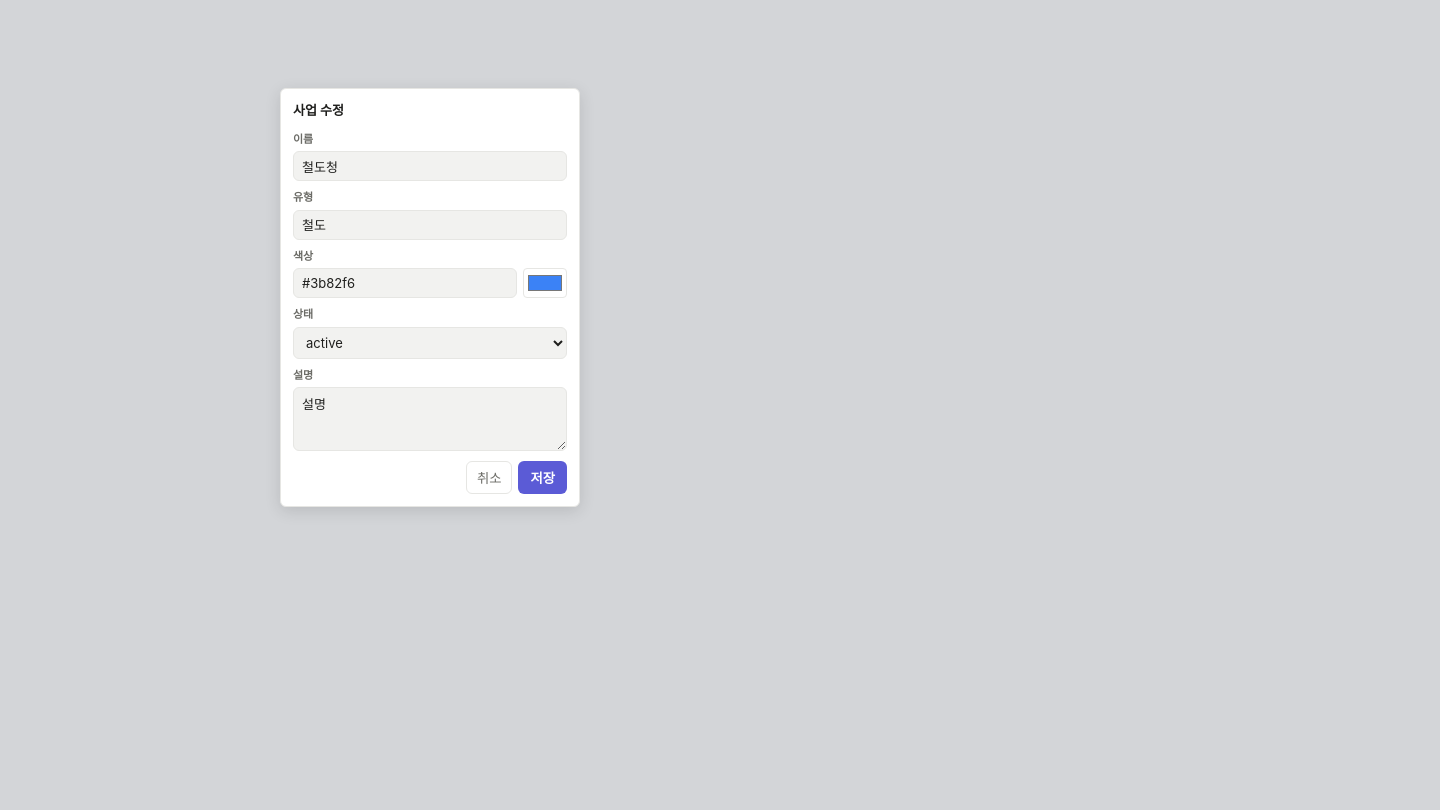
Test case: BusinessEditorPopover › empty name or type disables save
The width and height of the screenshot is (1440, 810).
Clear the field named "사업 유형" at (430, 224), box [293,210,567,240]
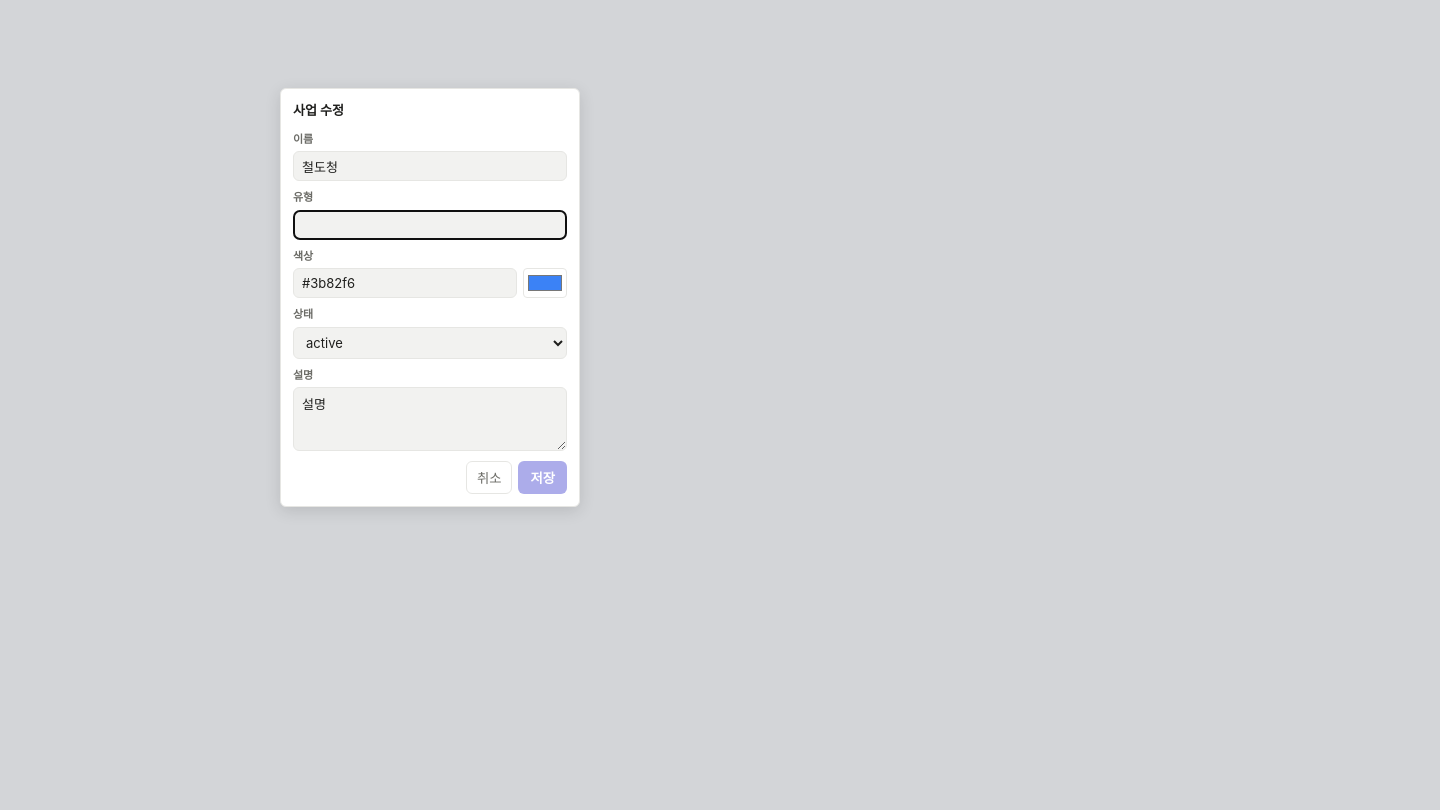
Expected: the button "저장" is disabled, [518,461,567,494]
Type "플랫폼" into the field named "사업 유형" at (430, 224), box [293,210,567,240]
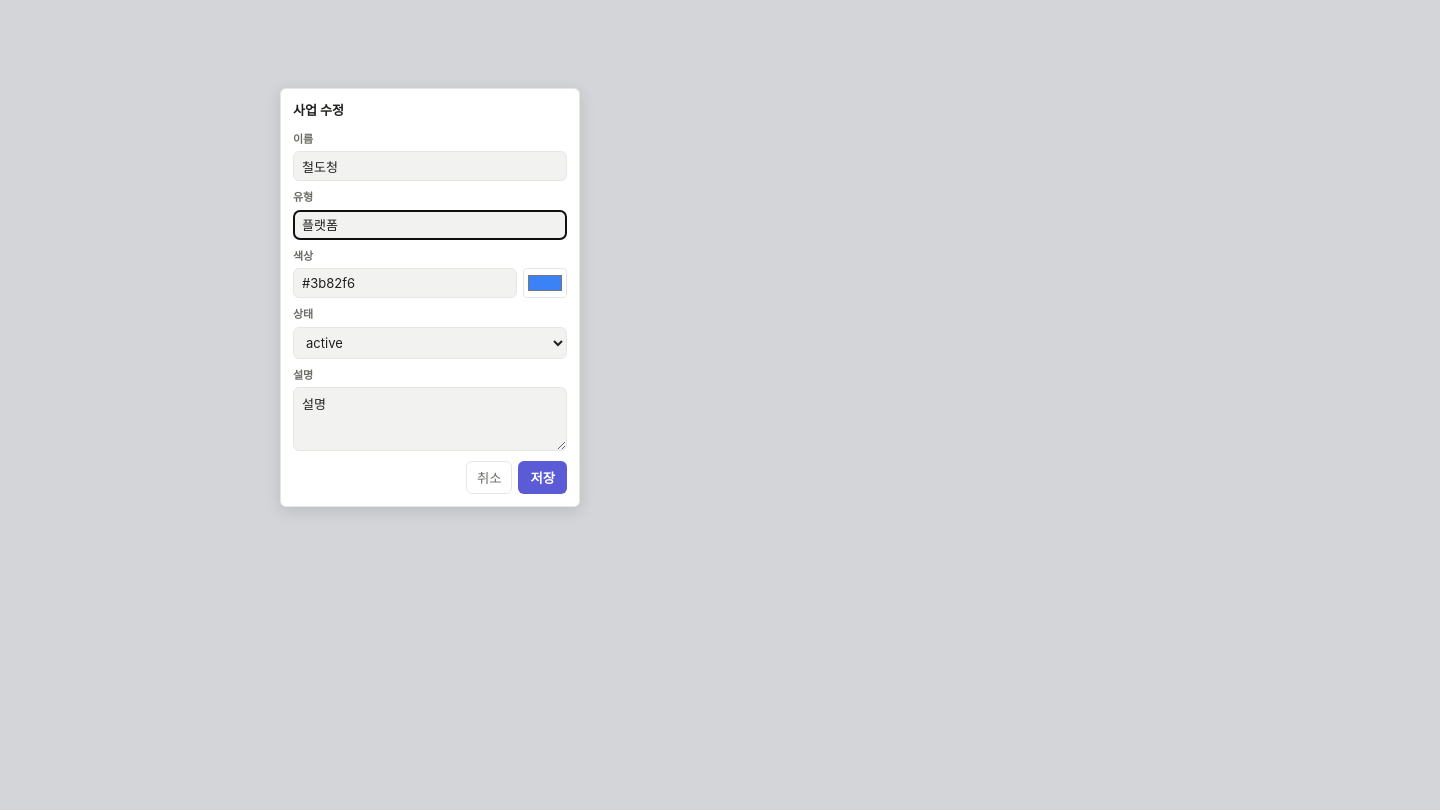
Clear the field named "사업 이름" at (430, 166), box [293,151,567,181]
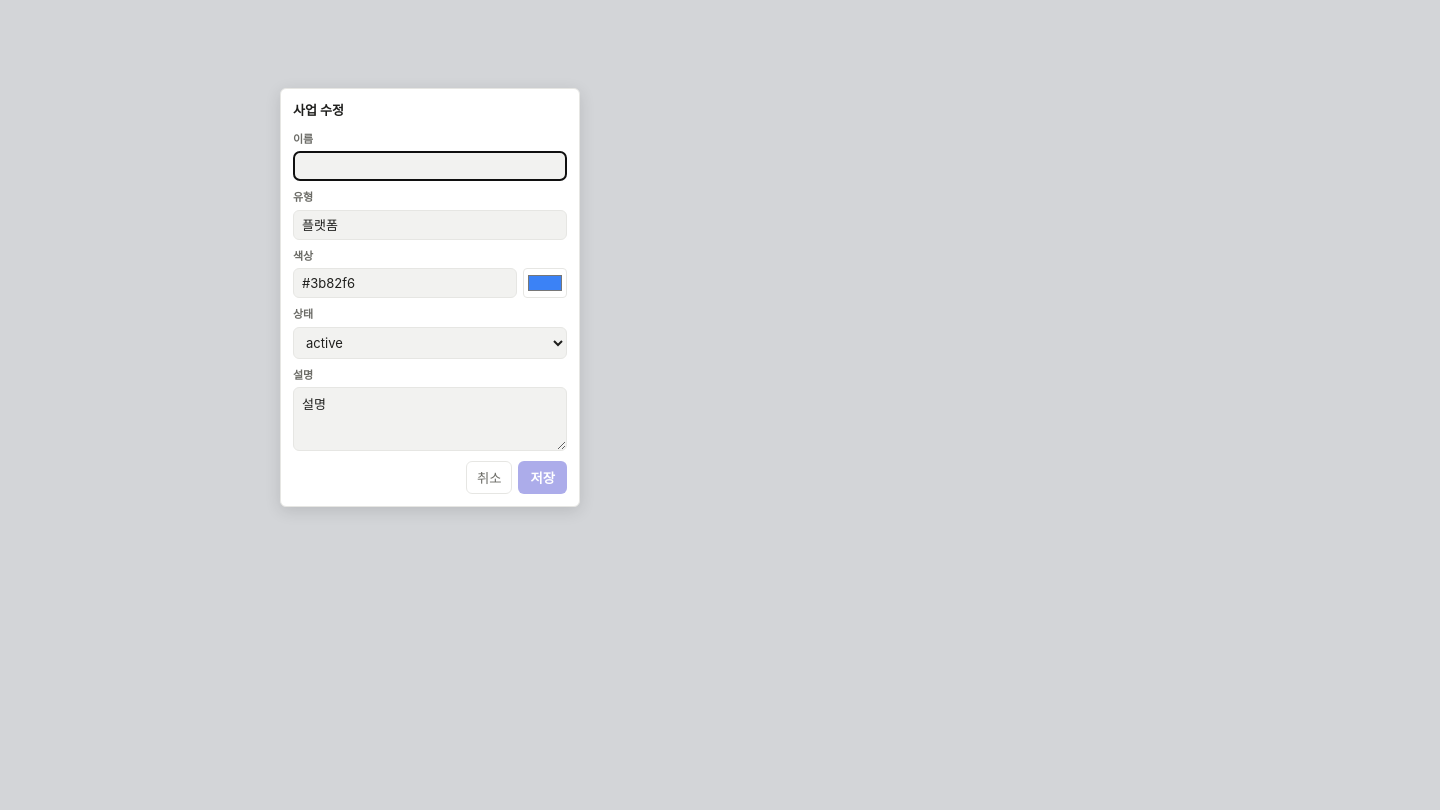
Expected: the button "저장" is disabled, [518,461,567,494]
